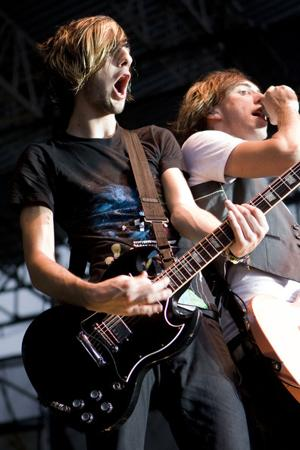person: (15, 14, 269, 447)
